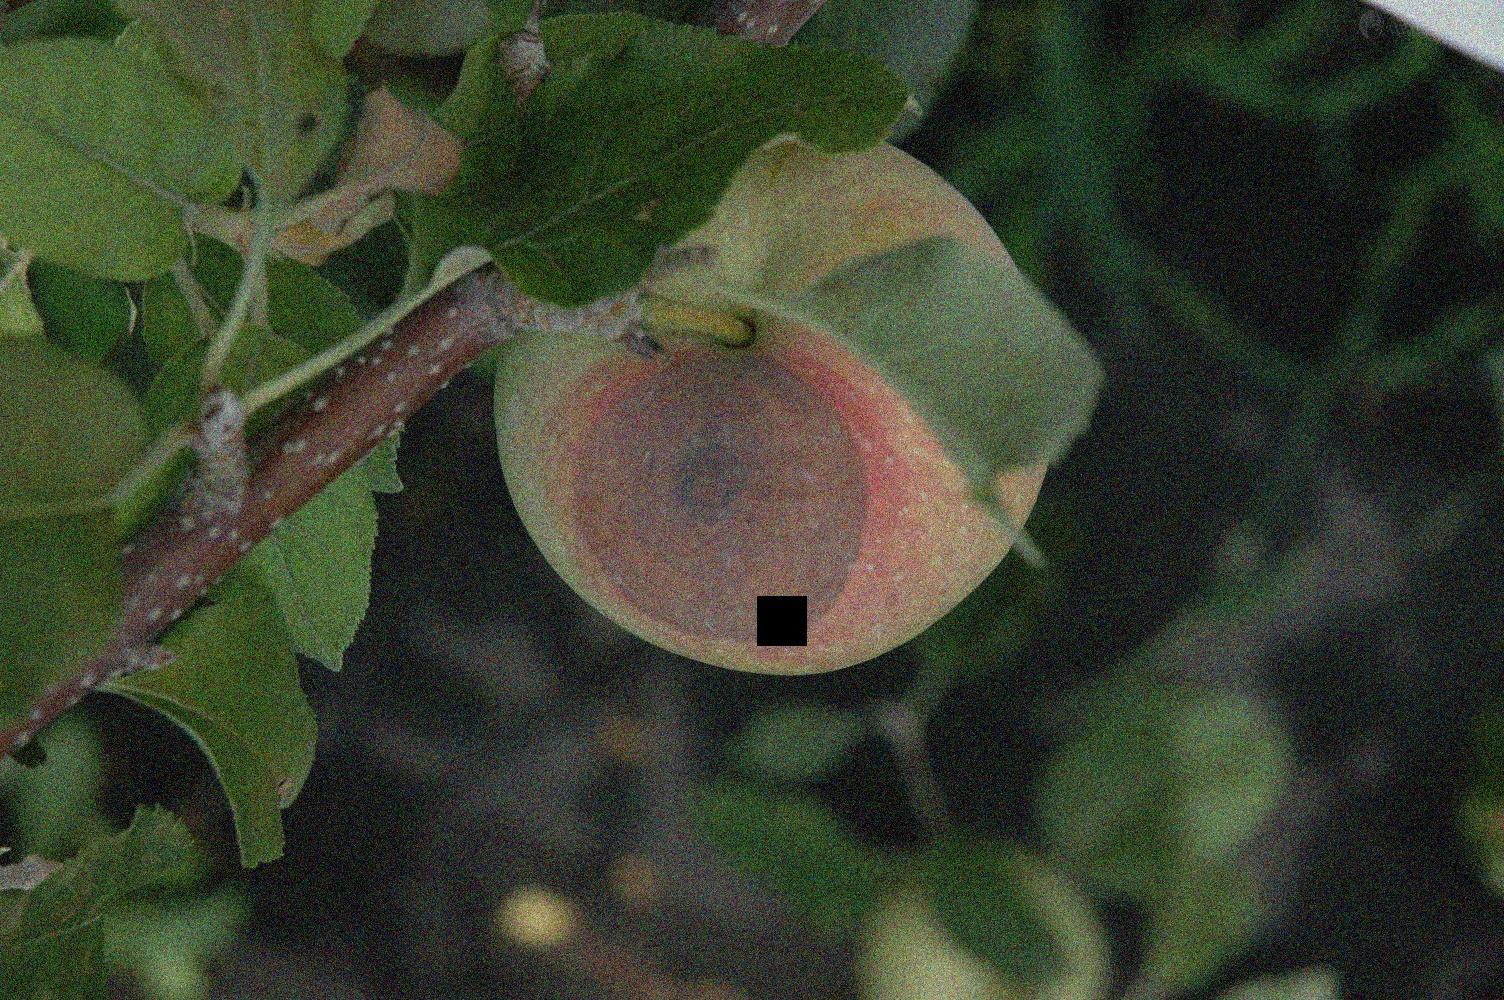rotten apple: (485, 119, 1073, 692)
